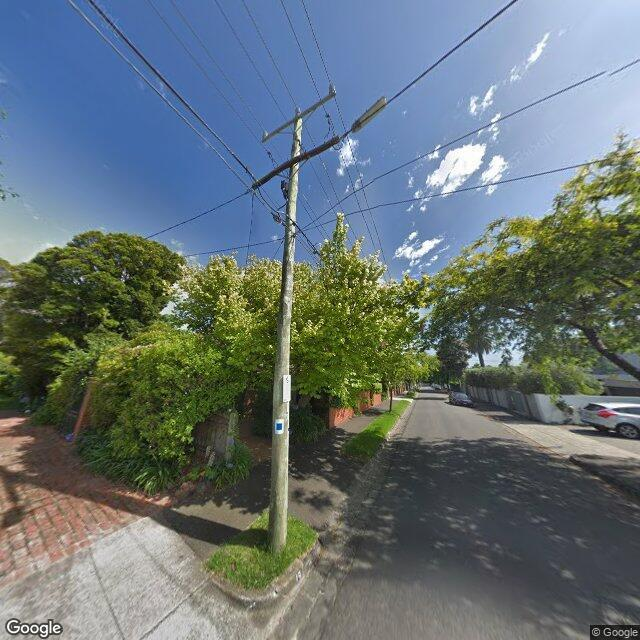HV-transmission: (262, 83, 336, 139)
crossarm: (252, 135, 340, 190), (262, 92, 337, 144)
streetlight: (339, 96, 387, 141)
timber-pole: (268, 112, 302, 553)
